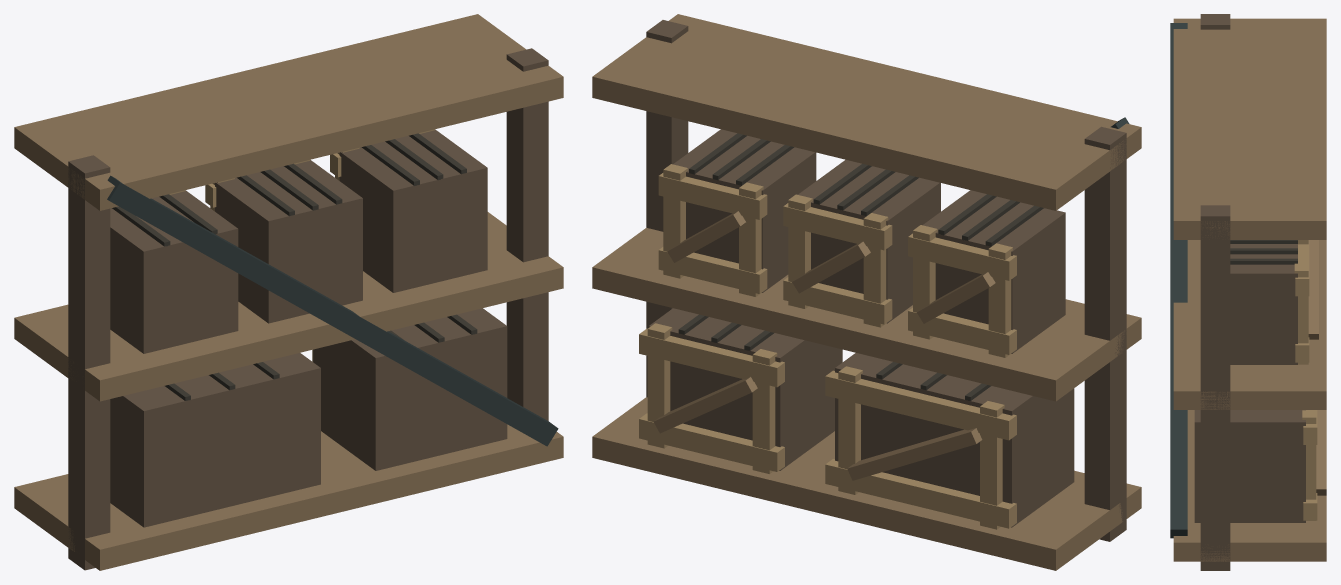
The model's file is S2_CargoShelves.fbx.
3 renders of one model, left to right at view 1: azimuth 30°, elevation 25°; view 2: azimuth 150°, elevation 25°; view 3: azimuth 270°, elevation 25°, orthographic. The views are drawn at different scales.
Parts seen in each view (by area): view 1: S2_CargoShelves; view 2: S2_CargoShelves; view 3: S2_CargoShelves.
Part boxes in pixels (x1,y1,x2,y2): S2_CargoShelves: (14, 14, 563, 570); S2_CargoShelves: (592, 14, 1141, 570); S2_CargoShelves: (1170, 14, 1326, 570).
Size of the model in its own units: 2.75 by 2.25 by 0.9.
